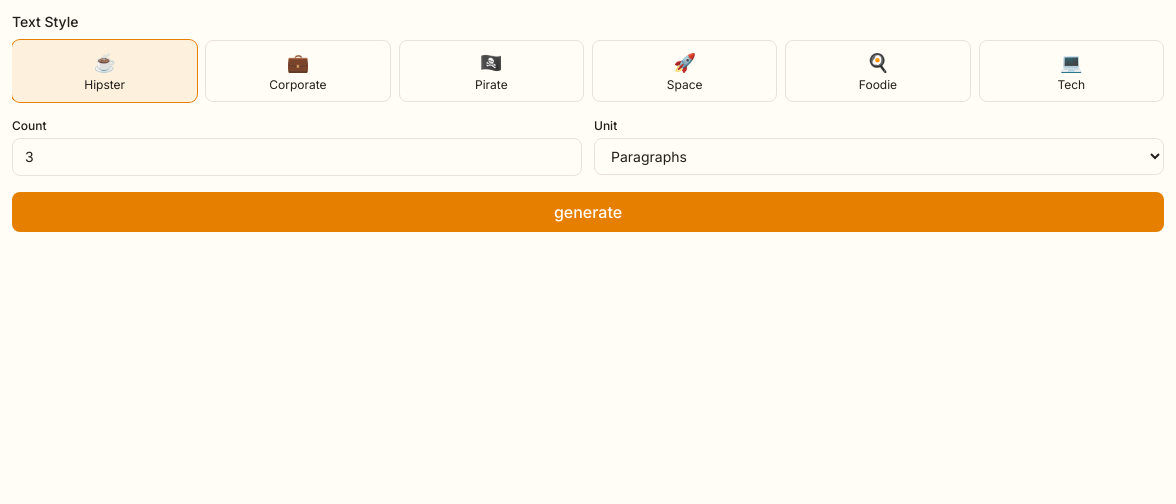
Test: LoremIpsumAlternative - Deep Tests › shows copy button only after generating
Check: the text "copy" is not shown
Click the button "generate" at point(588, 212), box [12, 192, 1164, 232]
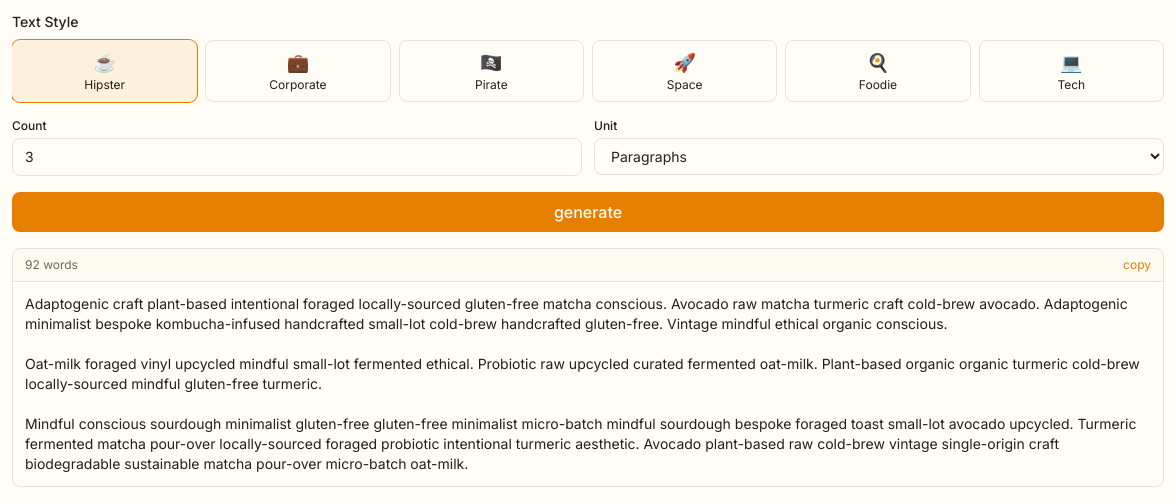
Check: the button "copy" is shown, box [1123, 257, 1151, 273]
